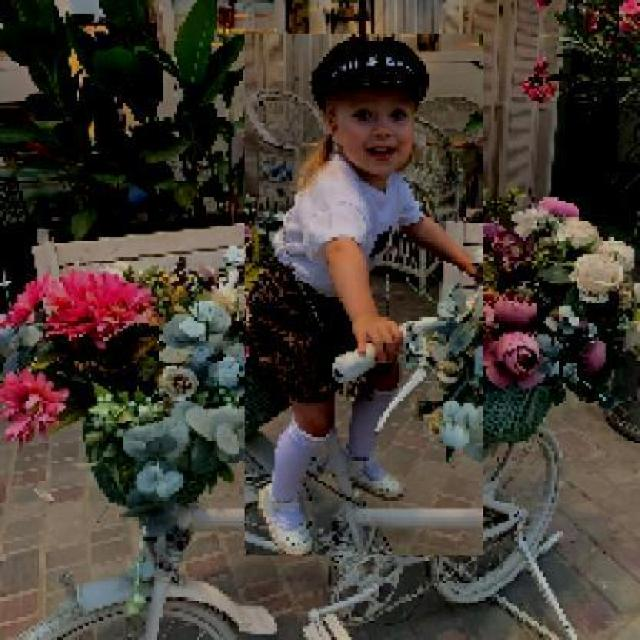child: (243, 34, 483, 557)
